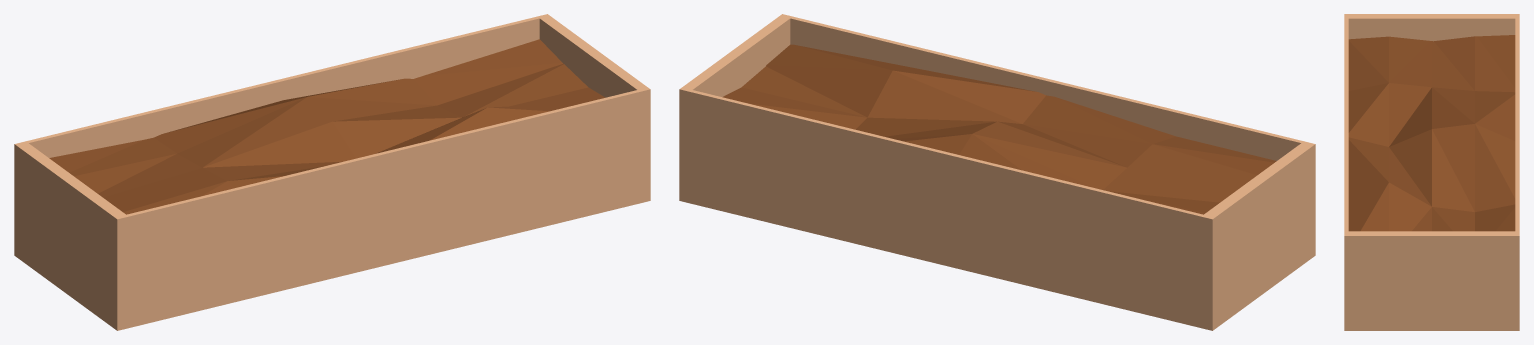
File: mod_bg_bacdeplantation3.fbx
3 renders of one model, left to right at view 1: azimuth 30°, elevation 25°; view 2: azimuth 150°, elevation 25°; view 3: azimuth 270°, elevation 25°, orthographic. The views are drawn at different scales.
Visible parts, largest first — view 1: Bac de plantation 3, Bac de plantation 3.001; view 2: Bac de plantation 3, Bac de plantation 3.001; view 3: Bac de plantation 3.001, Bac de plantation 3.
Part boxes in pixels (x1,y1,x2,y2): Bac de plantation 3: (14, 14, 650, 330); Bac de plantation 3.001: (49, 39, 605, 214); Bac de plantation 3: (679, 14, 1315, 330); Bac de plantation 3.001: (722, 44, 1276, 214); Bac de plantation 3.001: (1348, 35, 1515, 231); Bac de plantation 3: (1344, 14, 1519, 330).
Bounding box in the file's own units: 175 × 35.42 × 58.53.
